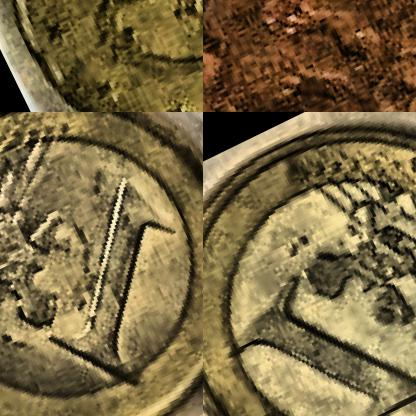coin: (203, 112, 415, 415), (0, 112, 202, 415), (203, 0, 415, 111), (0, 0, 202, 111)
